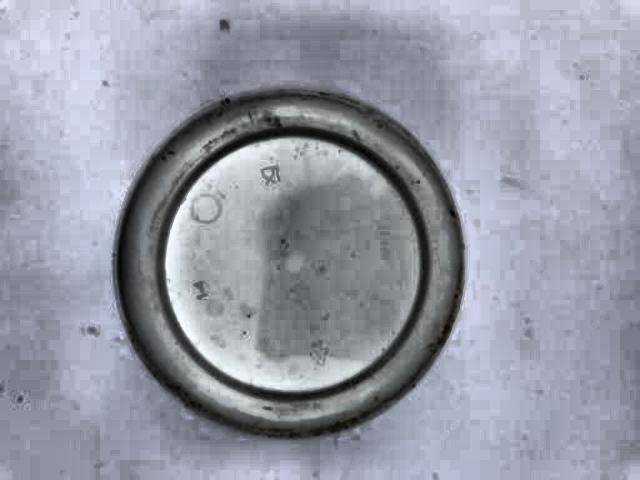Plastic: (115, 88, 470, 441)
